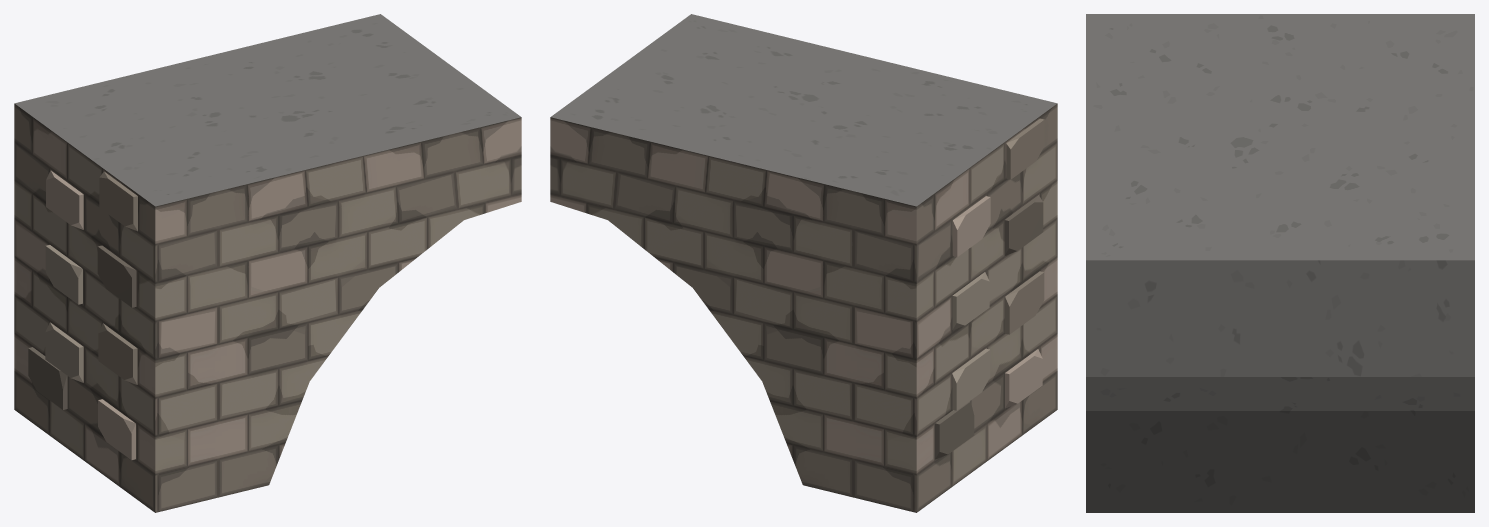
Rendered from SM_Bld_Tunnel_Curved_Roof_01.fbx.
The picture shows the model from 3 angles, left to right: view 1: azimuth 30°, elevation 25°; view 2: azimuth 150°, elevation 25°; view 3: azimuth 270°, elevation 25°; orthographic projection. The views are drawn at different scales.
Parts seen in each view (by area): view 1: SM_Bld_Tunnel_Curved_Roof_01; view 2: SM_Bld_Tunnel_Curved_Roof_01; view 3: SM_Bld_Tunnel_Curved_Roof_01.
Part boxes in pixels (box(x1,y1,x2,y2)): SM_Bld_Tunnel_Curved_Roof_01: box(14, 14, 521, 512); SM_Bld_Tunnel_Curved_Roof_01: box(550, 14, 1057, 512); SM_Bld_Tunnel_Curved_Roof_01: box(1086, 14, 1474, 512).
Size of the model in its own units: 380 by 300 by 250.
